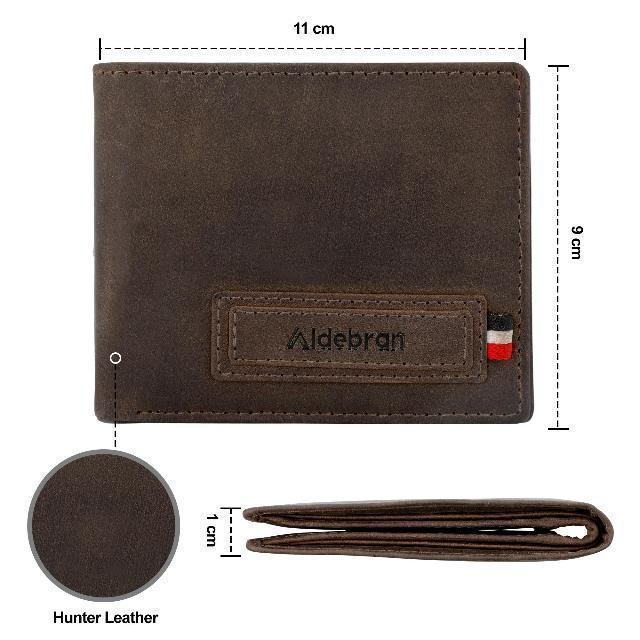wallet: (95, 63, 533, 425), (235, 491, 622, 574)
